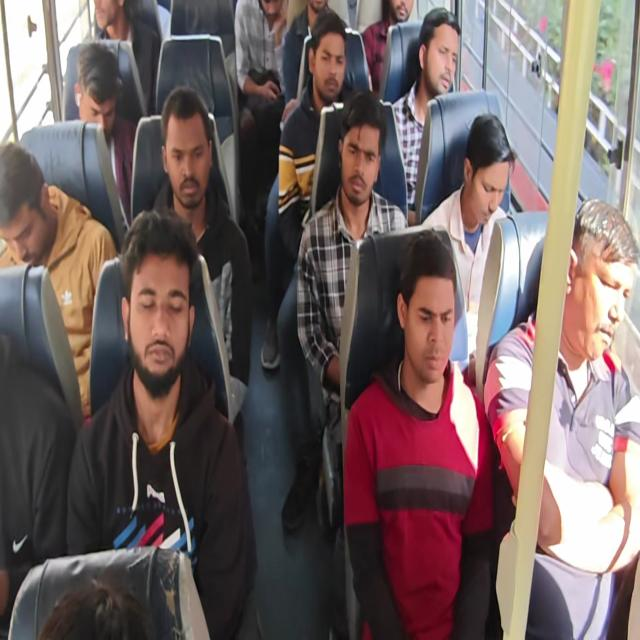person: (1, 1, 638, 638), (65, 208, 258, 638), (484, 197, 640, 638), (343, 229, 495, 638), (295, 88, 408, 431), (150, 84, 252, 450), (0, 141, 118, 421), (260, 10, 349, 370), (420, 112, 516, 384), (0, 334, 76, 636), (390, 7, 460, 224), (234, 0, 289, 232), (72, 42, 138, 226), (38, 566, 156, 639), (281, 0, 347, 123), (361, 0, 414, 94), (92, 0, 134, 45)
